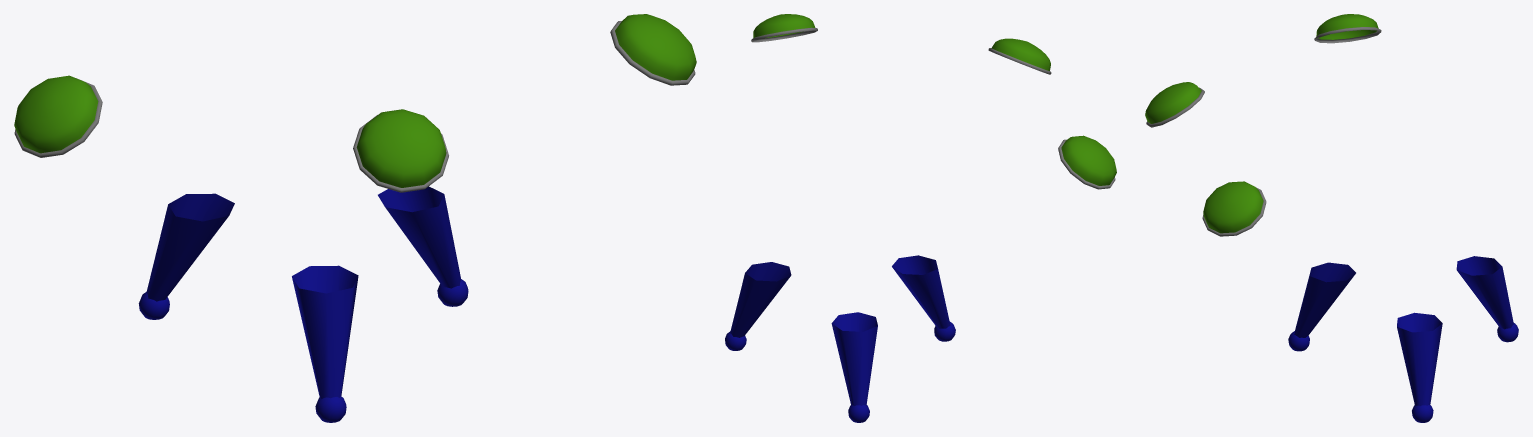
The model's file is parte 2.obj.
3 renders of one model, left to right at view 1: azimuth 30°, elevation 25°; view 2: azimuth 150°, elevation 25°; view 3: azimuth 270°, elevation 25°, orthographic. The views are drawn at different scales.
Visible parts, largest first — view 1: patas, foco_2, foco_1, foco_3, metal_2, metal_1, metal_3; view 2: patas, foco_1, foco_2, foco_3, metal_3; view 3: patas, foco_3, foco_2, foco_1, metal_1, metal_3.
Part boxes in pixels (x1,y1,x2,y2): patas: (138,186,468,422); foco_2: (356,109,446,187); foco_1: (14,75,98,153); foco_3: (615,14,696,80); metal_2: (353,115,448,192); metal_1: (14,78,102,157); metal_3: (610,21,695,85); patas: (725,255,955,422); foco_1: (1061,135,1116,185); foco_2: (991,38,1050,70); foco_3: (753,14,815,38); metal_3: (751,27,817,42); patas: (1288,256,1518,422); foco_3: (1203,181,1263,233); foco_2: (1145,82,1201,123); foco_1: (1316,14,1378,39); metal_1: (1314,27,1381,43); metal_3: (1202,187,1266,236).
Size of the model in its own units: 27.26 by 16.42 by 21.47.
